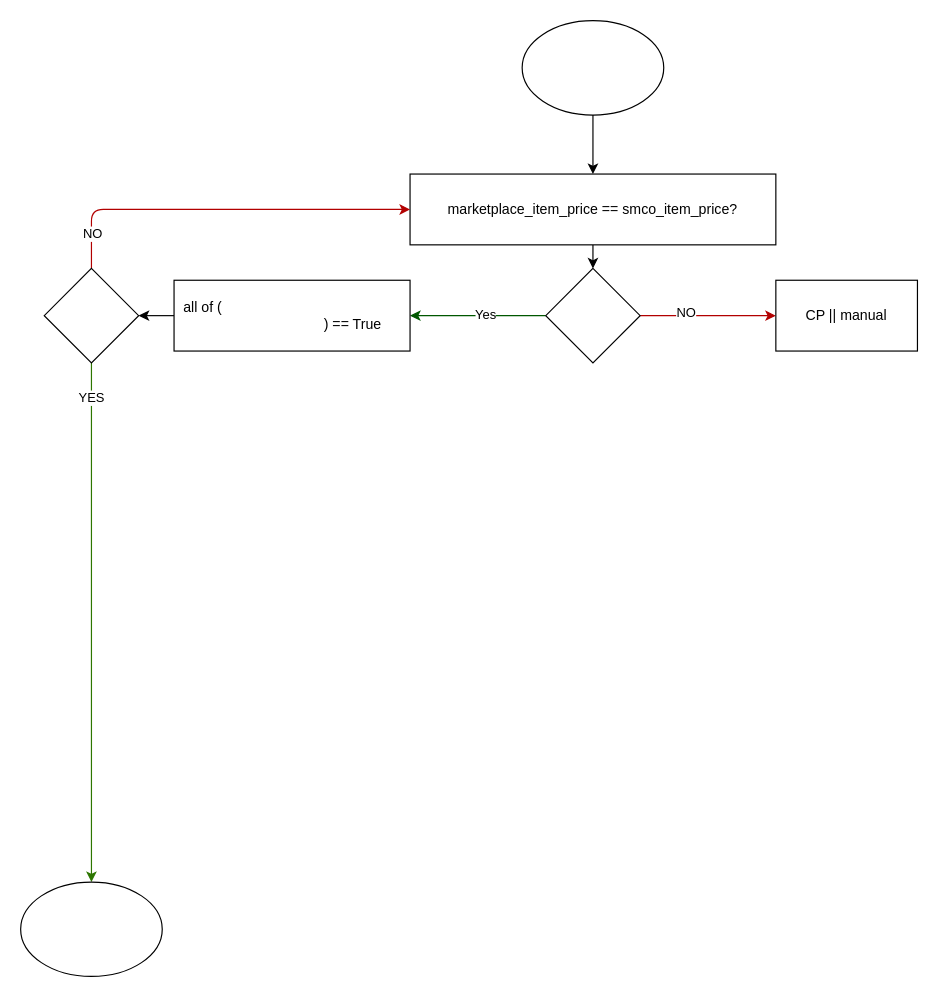
Image size: 938x997. Some labels were removed from this diagram. The box of each missing label's shape, as (x1, y1, x2, y2) in pixels:
END: (19, 881, 162, 976)
start: (521, 19, 664, 115)
